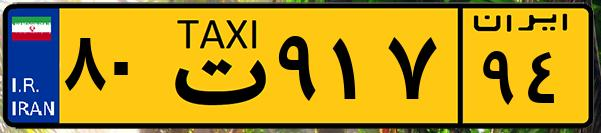0: (110, 28, 158, 98)
1: (330, 28, 385, 110)
4: (525, 38, 570, 115)
7: (385, 28, 445, 110)
8: (57, 26, 110, 100)
9: (270, 28, 330, 110), (475, 38, 525, 113)
ت: (158, 12, 270, 120)
